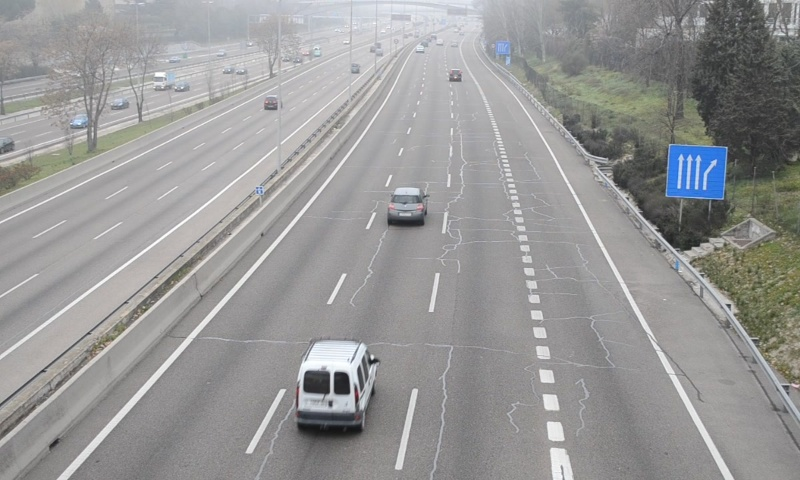car: (387, 186, 426, 224)
van: (296, 340, 376, 432)
